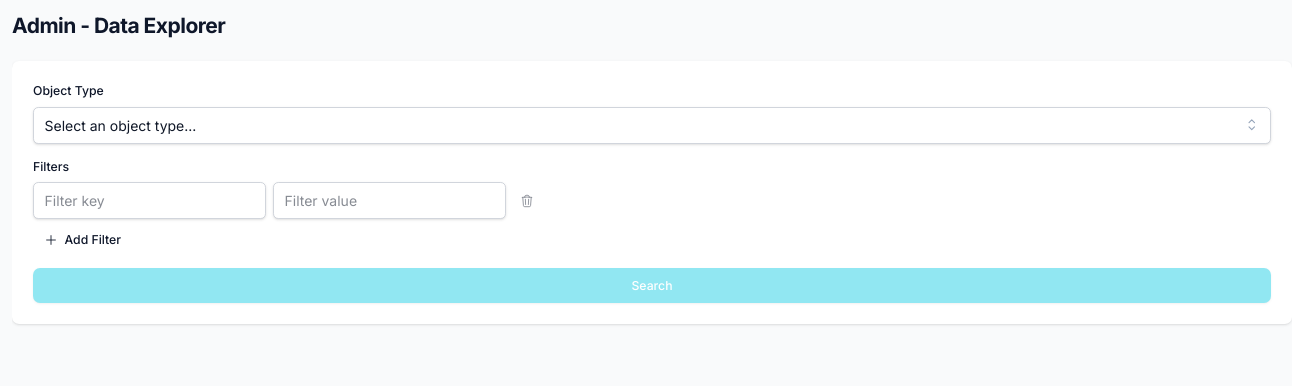
Test: AdminDataExplorerPage › allows adding and removing filter rows
Expected: the number of fields with placeholder "Filter key" is 1, top-left (33, 182), bottom-right (266, 219)
# Add a filter
Click the button "Add Filter". click: click(82, 240)
box: top-left (33, 226), bottom-right (132, 254)
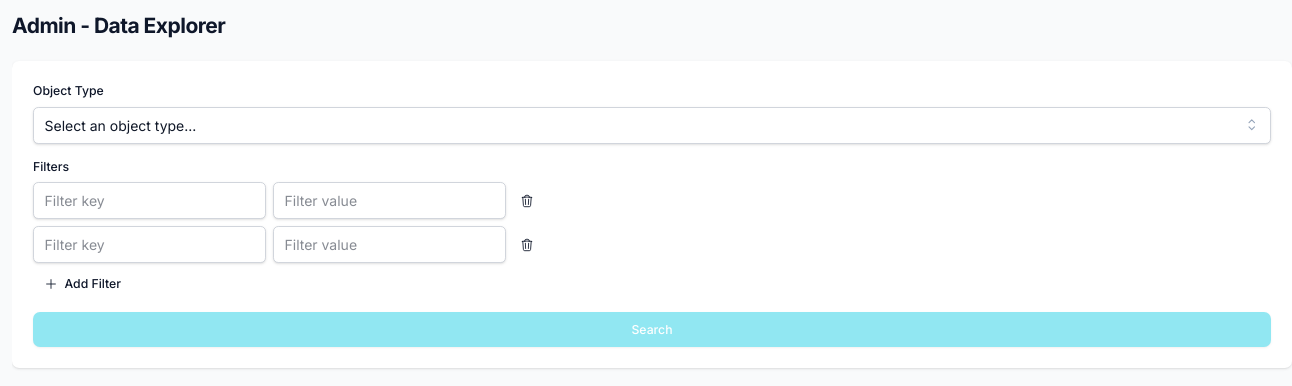
Expected: the number of fields with placeholder "Filter key" is 2, top-left (33, 182), bottom-right (266, 219); top-left (33, 226), bottom-right (266, 263)
# Remove a filter
Click the 2nd button. click: click(527, 244)
box: top-left (513, 230), bottom-right (541, 258)
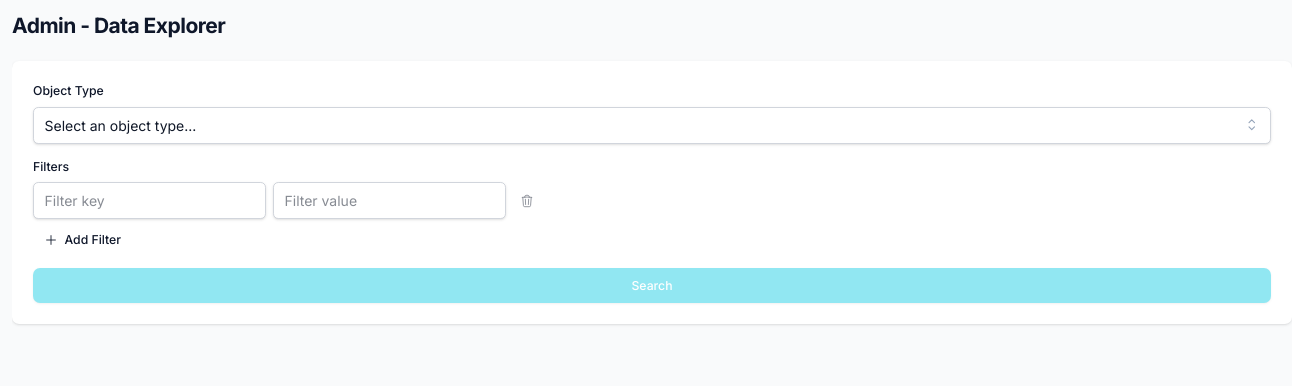
Expected: the number of fields with placeholder "Filter key" is 1, top-left (33, 182), bottom-right (266, 219)
